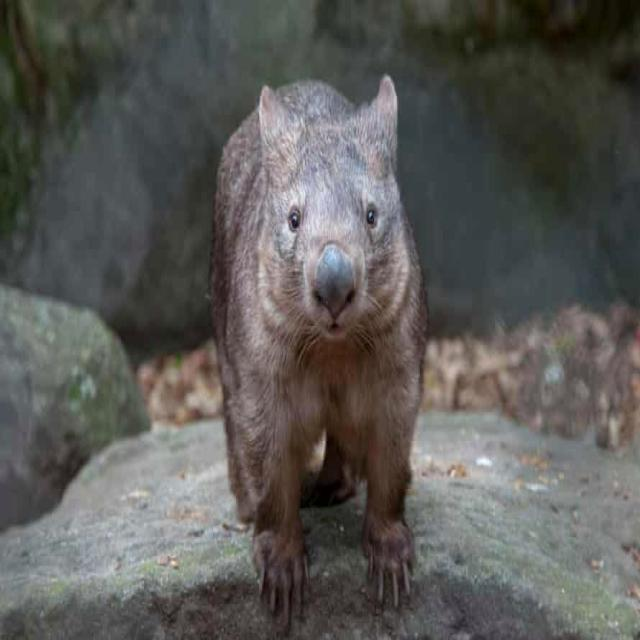wombats: (209, 76, 426, 626)
